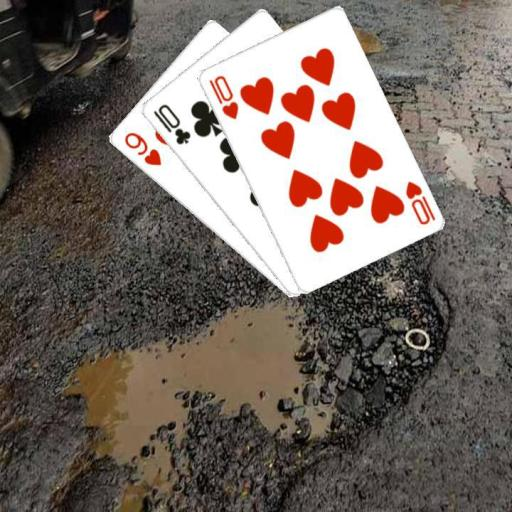10C: (149, 101, 192, 147)
10H: (205, 72, 240, 121), (402, 178, 437, 226)
9H: (120, 129, 163, 168)
